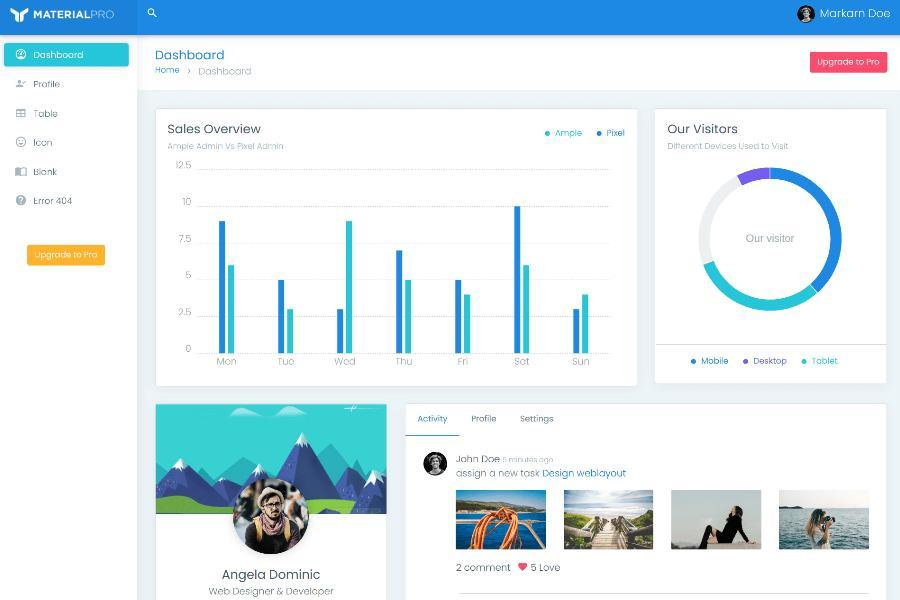button: (5, 42, 130, 69), (810, 52, 889, 75), (405, 405, 460, 437), (27, 246, 106, 267)
icon: (144, 7, 164, 23), (14, 107, 30, 121), (16, 194, 29, 209), (14, 168, 29, 179), (17, 78, 29, 91), (16, 138, 29, 149)
label: (162, 118, 265, 137), (155, 48, 231, 65), (820, 7, 896, 24), (668, 122, 739, 137), (468, 410, 500, 427), (519, 414, 560, 427), (33, 196, 74, 208), (33, 80, 65, 92), (33, 109, 60, 121), (33, 168, 60, 178), (33, 138, 55, 149)
